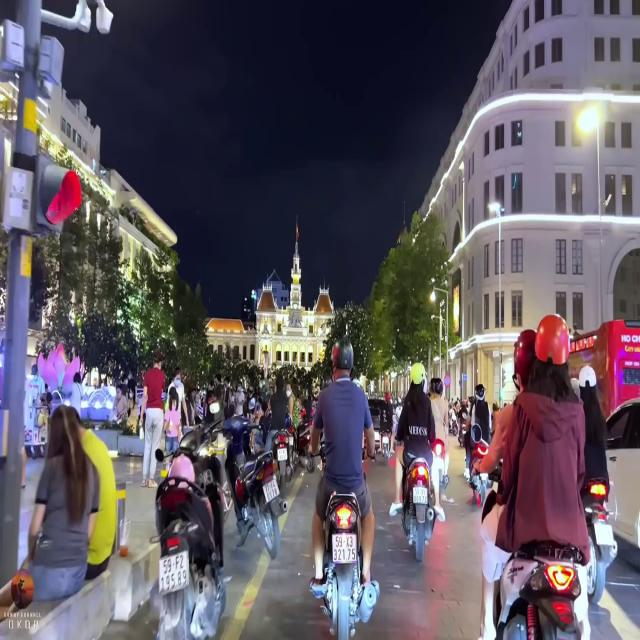bien_trang: (156, 553, 190, 589), (331, 529, 358, 567), (265, 473, 280, 502)
